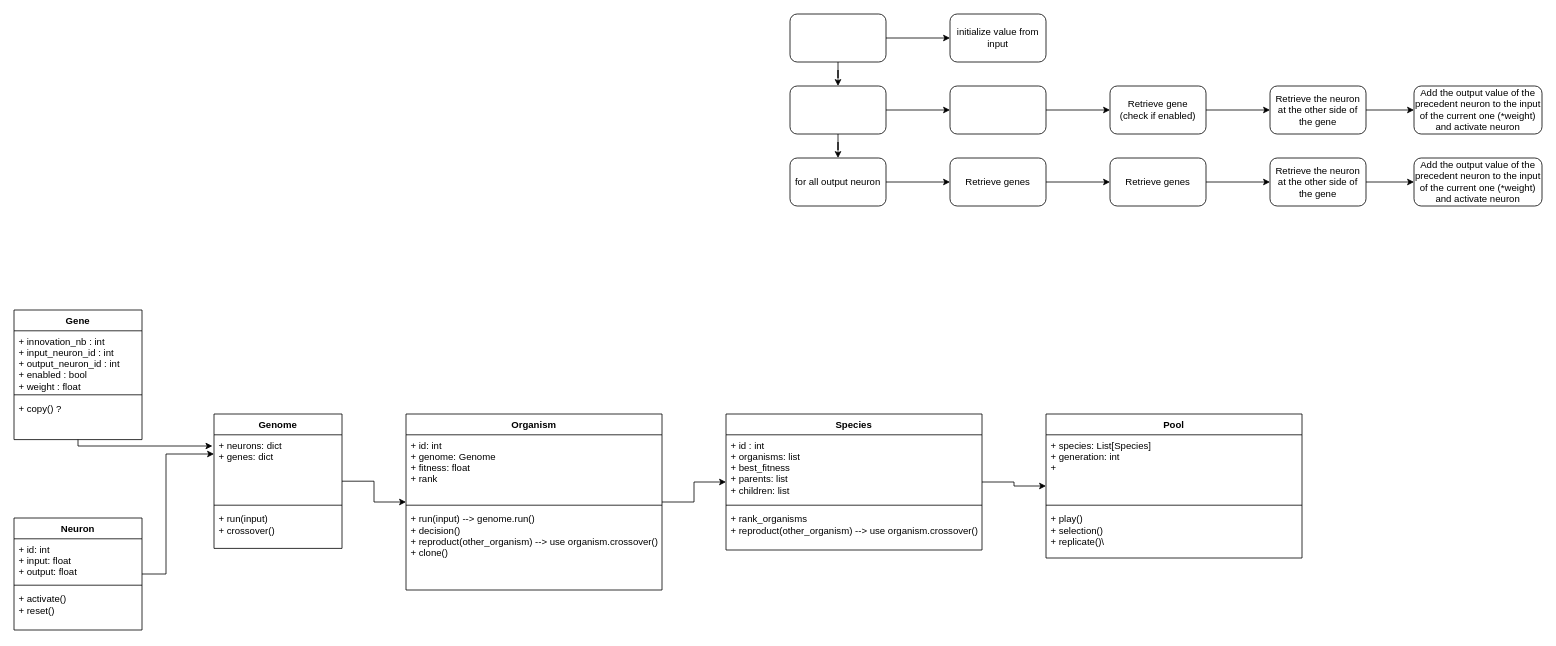
The diagram is 1556 pixels wide and 646 high, and some of its shapes have lost their labels. The shapes that lost their labels are listed below. From the top down, each one's centre as x and y in pixels, then its label:
point 837,37: for all input neurons
point 837,109: for all hidden layer
point 997,109: for all neurons in layer
